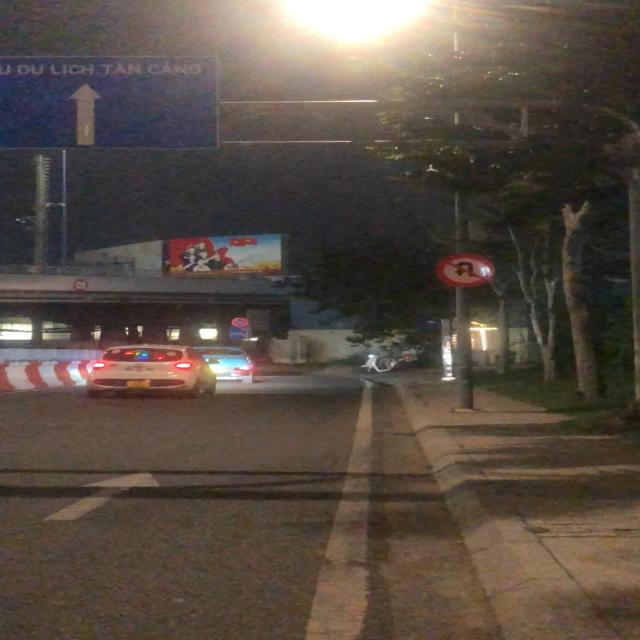Bien bao cam quay dau xe: (434, 251, 495, 288)
